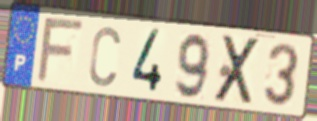3: (261, 41, 301, 108)
4: (129, 26, 165, 96)
9: (175, 31, 212, 100)
C: (87, 23, 123, 89)
F: (34, 17, 87, 84)
X: (211, 33, 264, 107)
